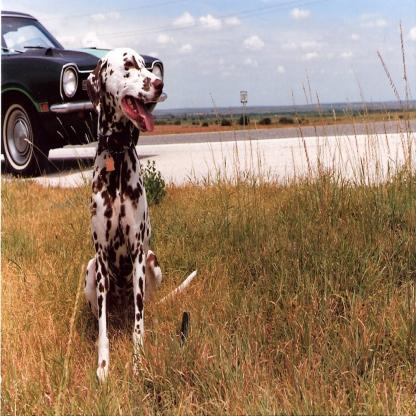Car: (1, 9, 113, 180)
